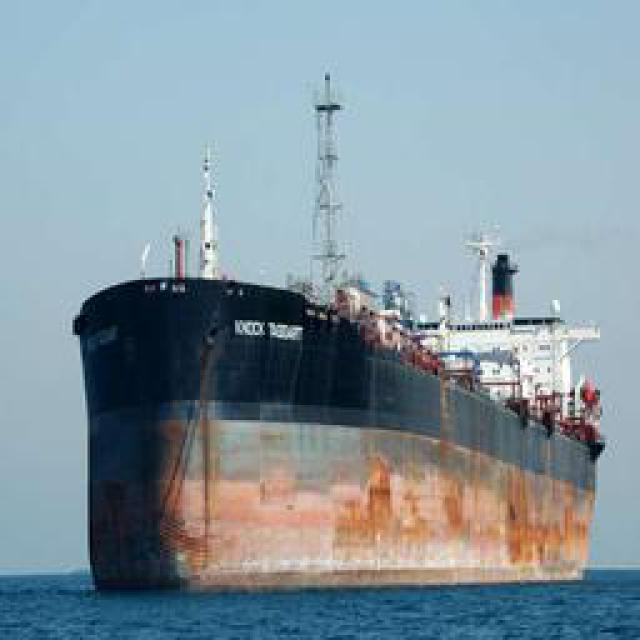Ship: (70, 100, 615, 595)
